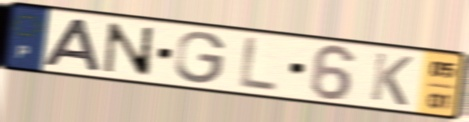6: (307, 42, 358, 102)
A: (40, 16, 104, 74)
G: (172, 30, 229, 86)
K: (367, 50, 416, 109)
L: (236, 34, 280, 95)
N: (102, 20, 156, 79)
